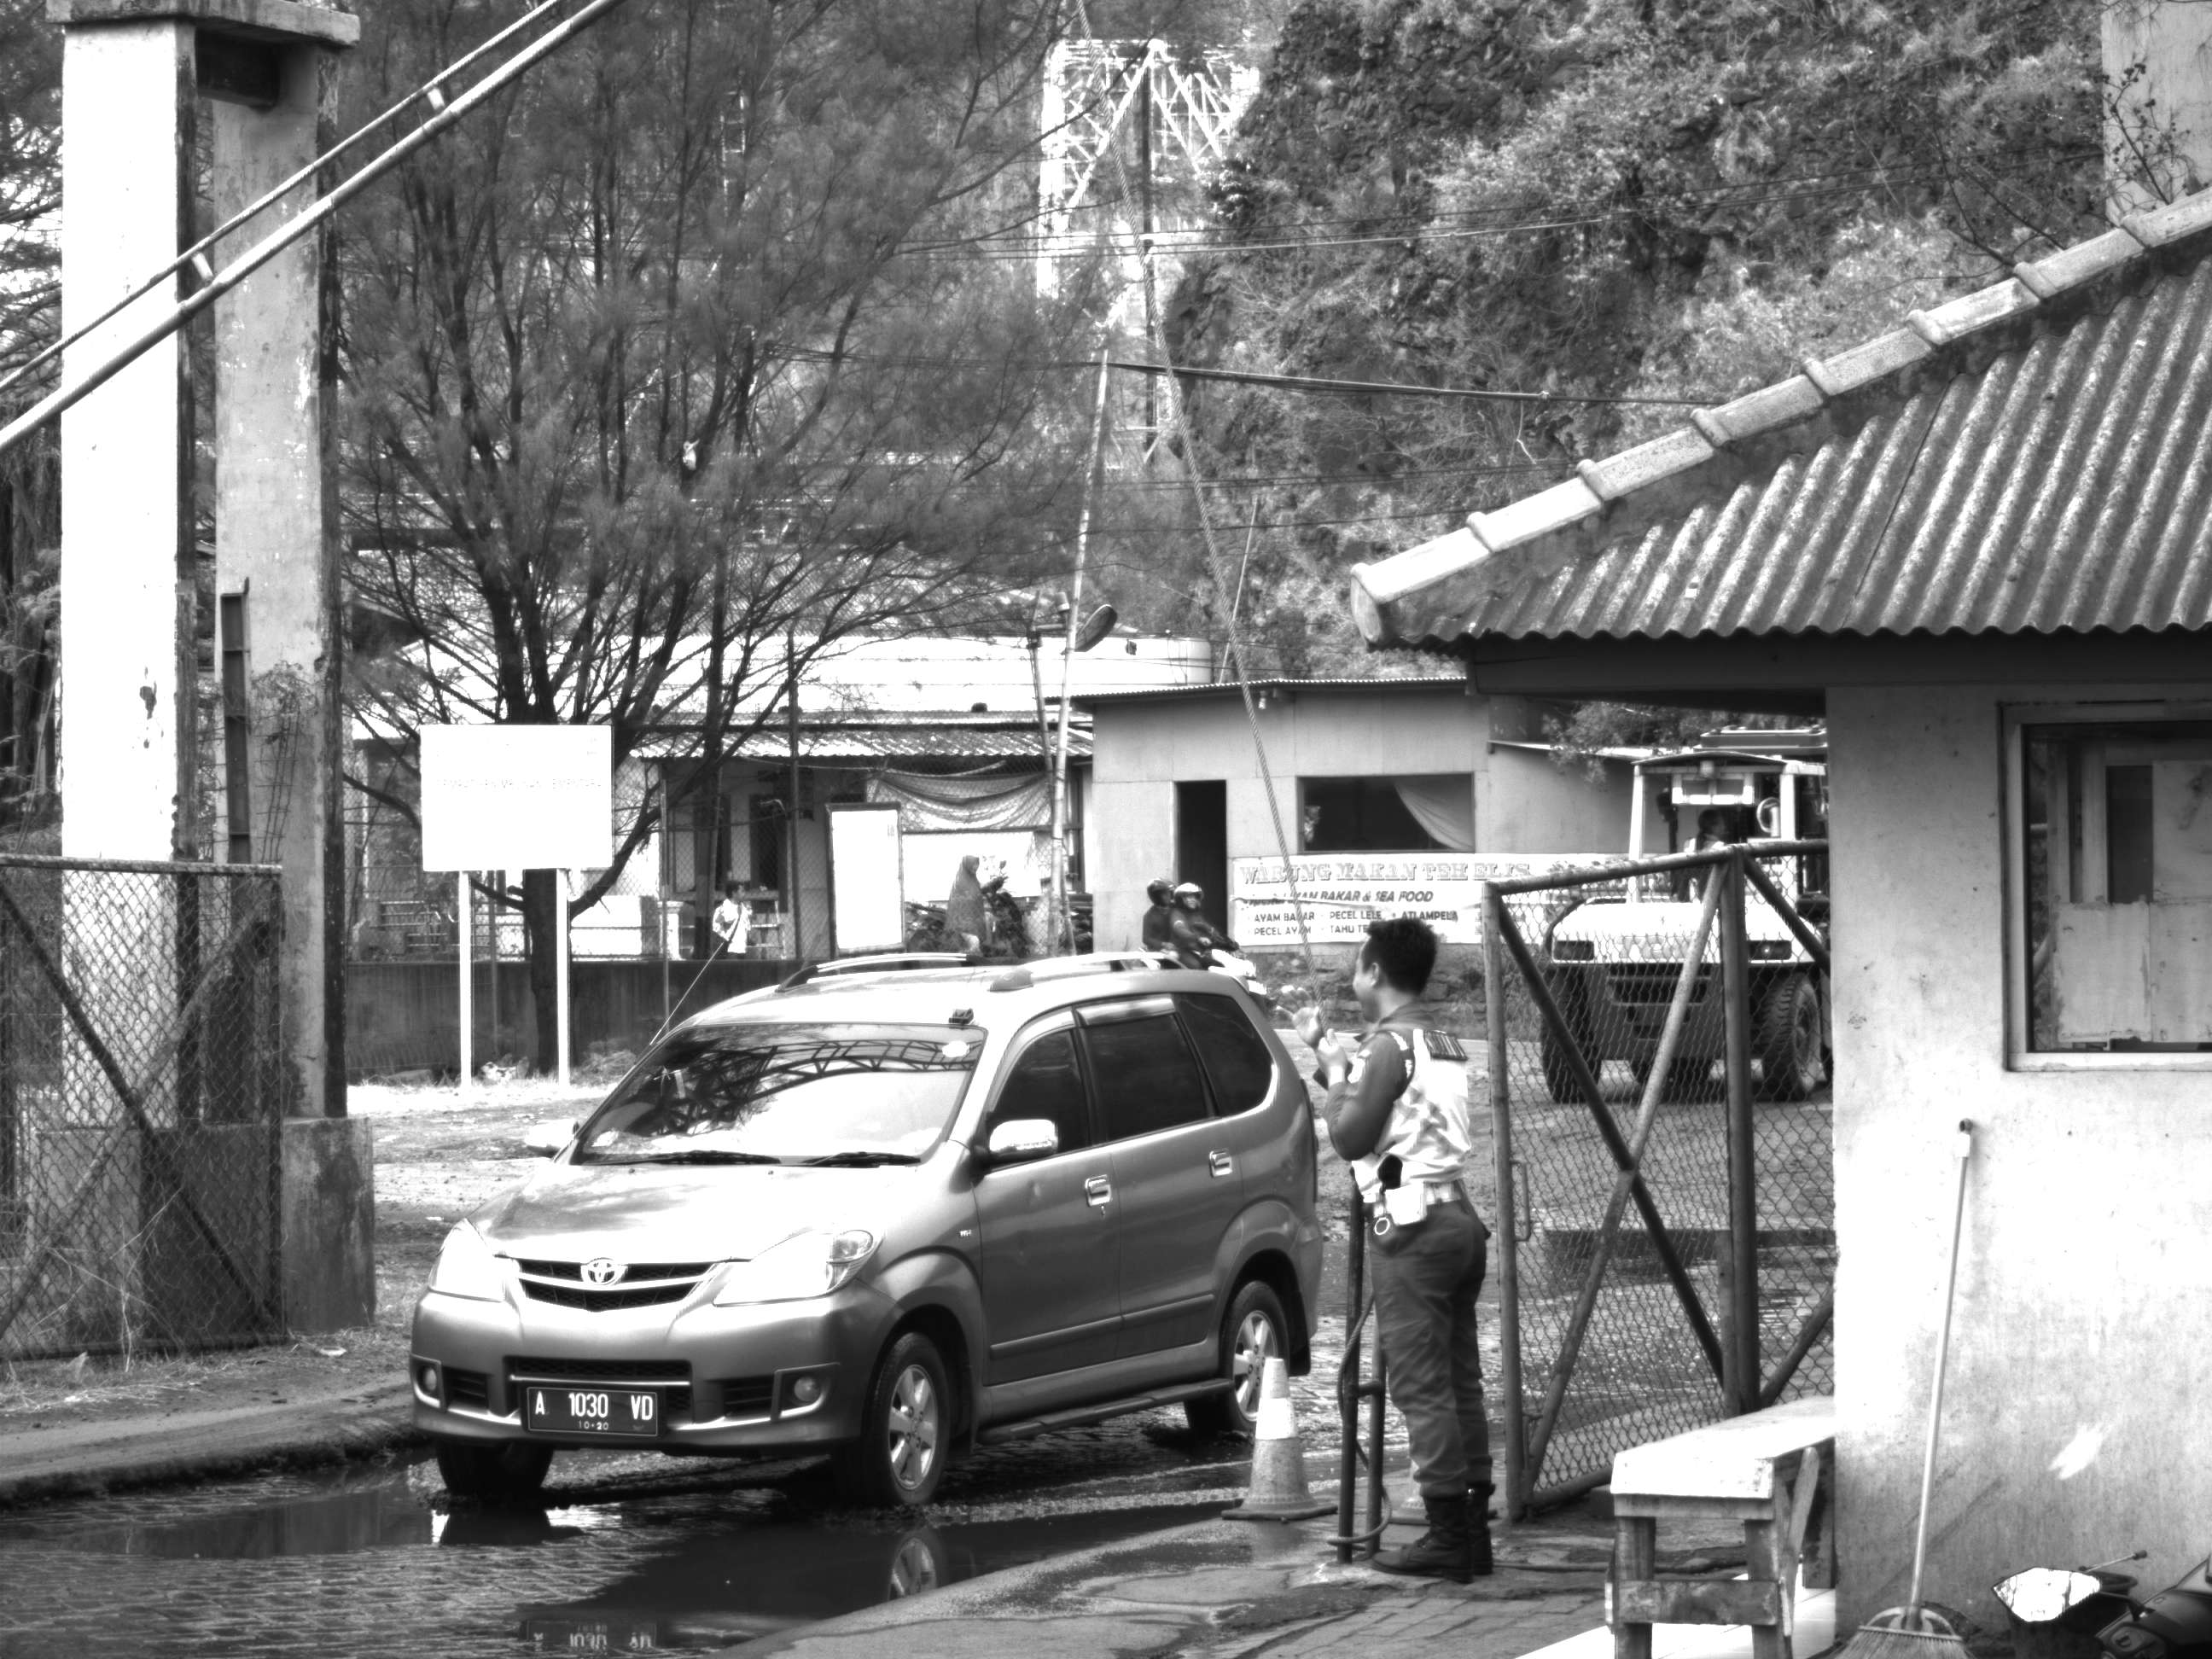day_small_front: (395, 967, 1044, 1510)
plate: (527, 1382, 664, 1439)
